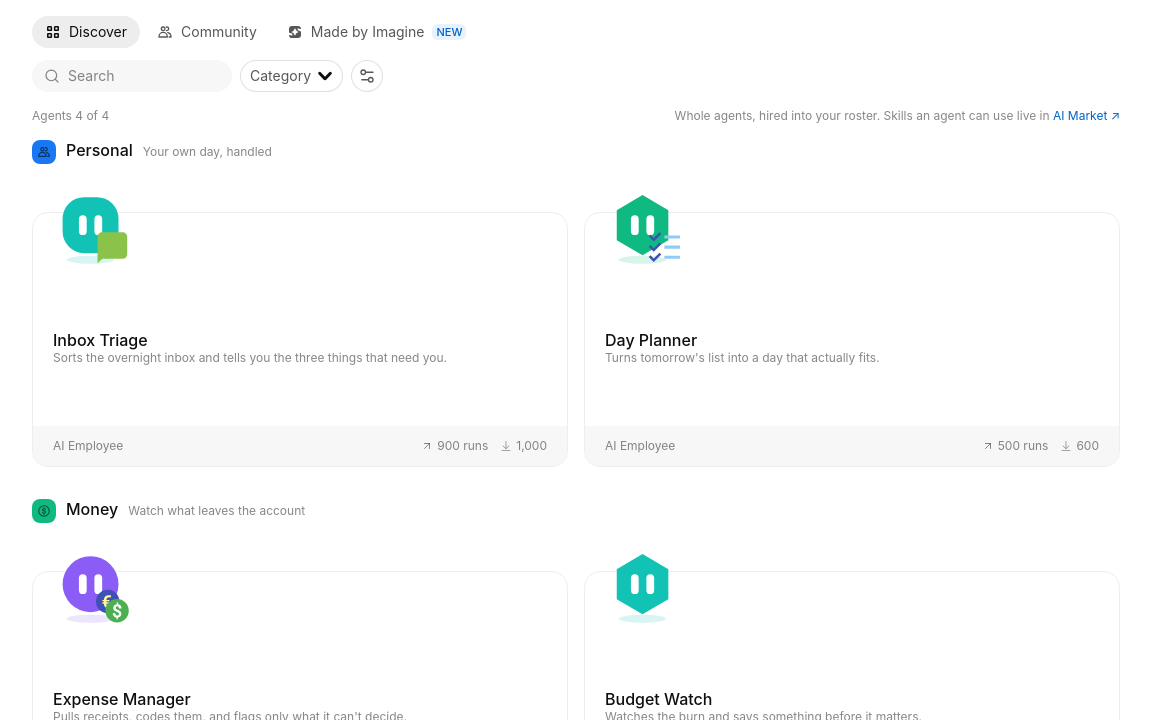
it: MarketplaceView › narrows to one category from the dropdown, shows its blurb, and drops the shelf headers
Click the button "Category". click: (292, 76)
box: [240,60,343,92]
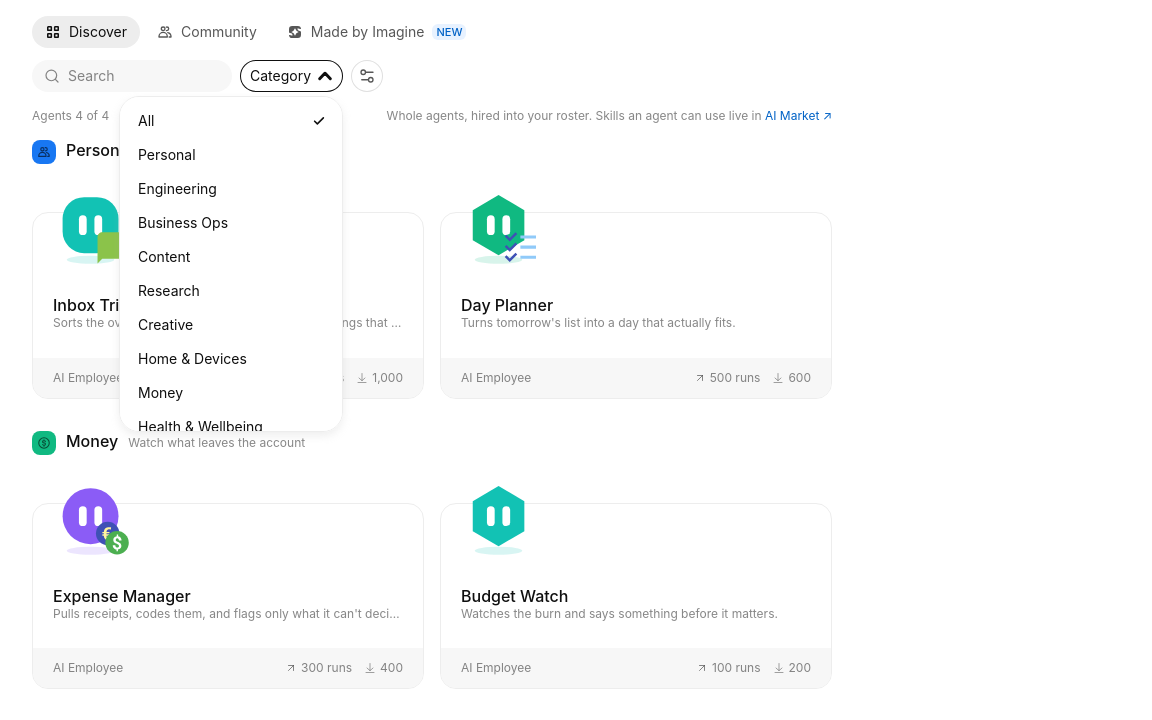
Click the menu item "Money". click: (161, 392)
box: [138,384,183,401]
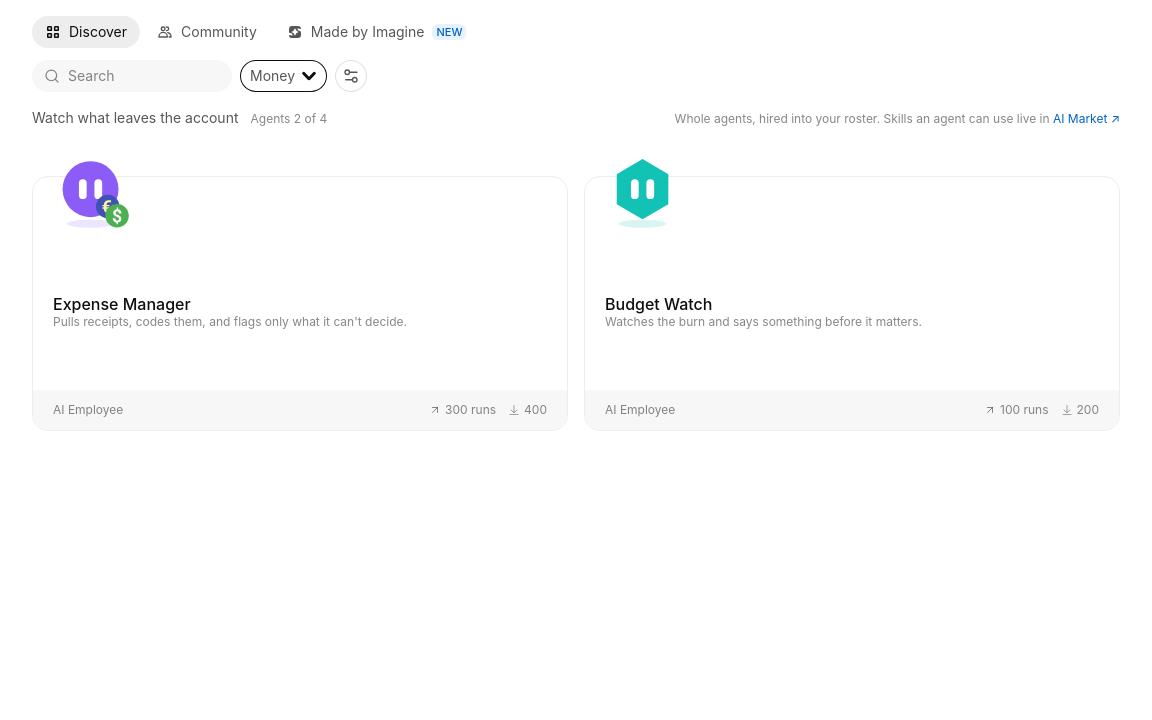
Expected: the text "Watch what leaves the account" is shown, [32,108,238,128]
Now the heading "Personal" is gone
